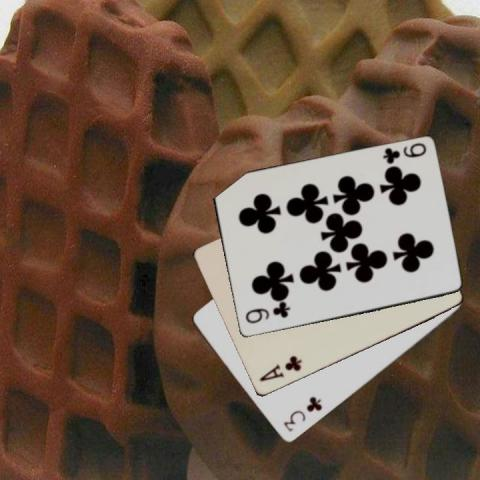3c: (280, 393, 324, 434)
9c: (379, 140, 428, 166), (242, 303, 291, 325)
Ac: (256, 354, 303, 384)
